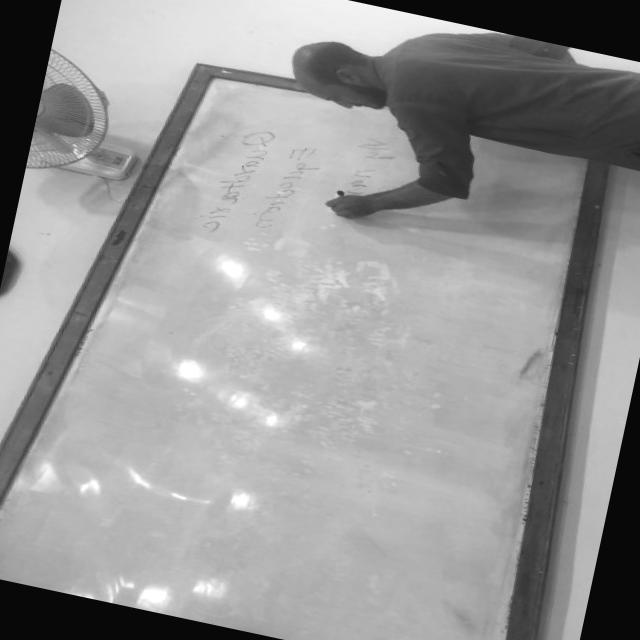Instructor: (215, 0, 640, 172)
White-board: (0, 69, 605, 640)
